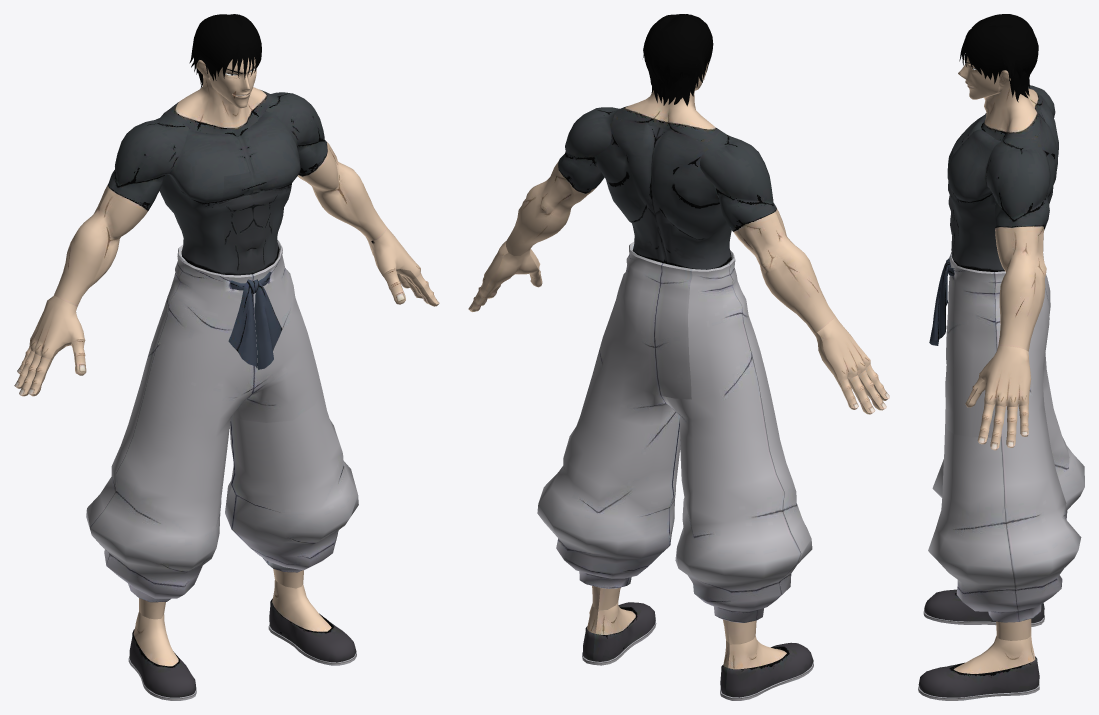
Rendered from Toji.fbx.
3 views of the same model, side by side, from view 1: azimuth 30°, elevation 25°; view 2: azimuth 150°, elevation 25°; view 3: azimuth 270°, elevation 25° (orthographic). The views are drawn at different scales.
Visible parts, largest first — view 1: node_id72, node_id84, node_id80, node_id76; view 2: node_id72, node_id84, node_id80; view 3: node_id72, node_id84, node_id80, node_id76.
Part boxes in pixels (x1,y1,x2,y2): node_id72: [86, 240, 358, 700]; node_id84: [14, 75, 439, 666]; node_id80: [189, 14, 261, 88]; node_id76: [196, 57, 256, 108]; node_id72: [537, 241, 813, 700]; node_id84: [468, 83, 889, 669]; node_id80: [643, 14, 713, 106]; node_id72: [918, 252, 1084, 700]; node_id84: [947, 81, 1058, 673]; node_id80: [959, 14, 1038, 102]; node_id76: [958, 56, 1010, 99].
Size of the model in its own units: 153 by 228 by 53.99.
